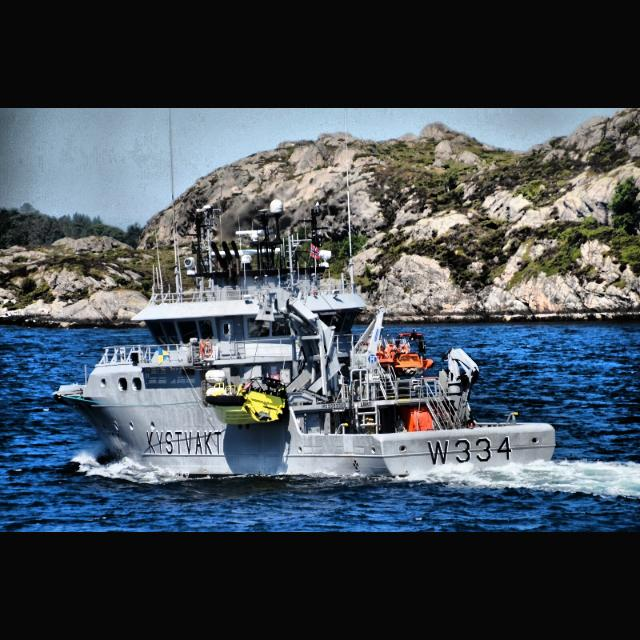patrol_vessel: (50, 203, 558, 482)
